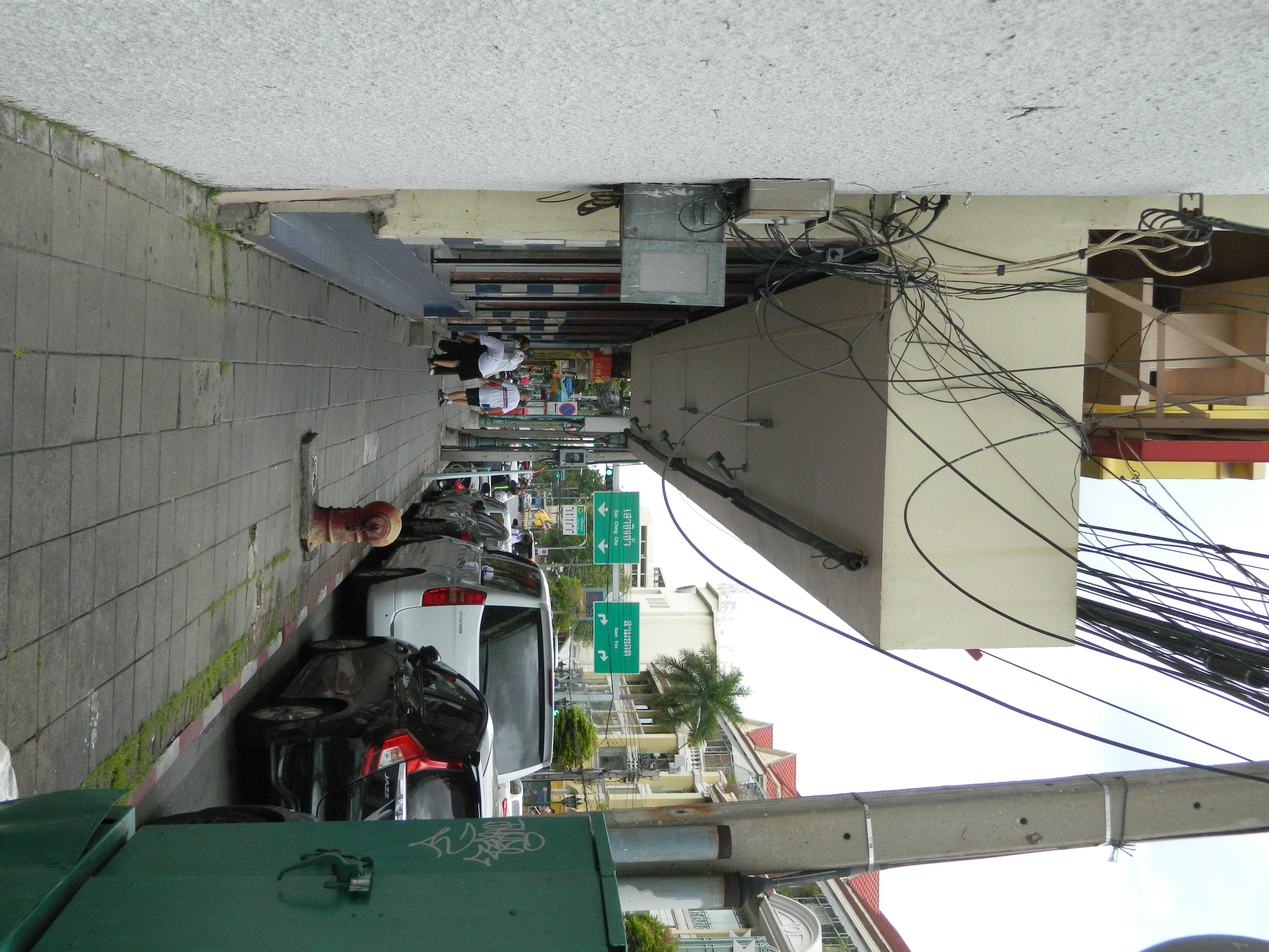wires: (244, 117, 698, 397)
